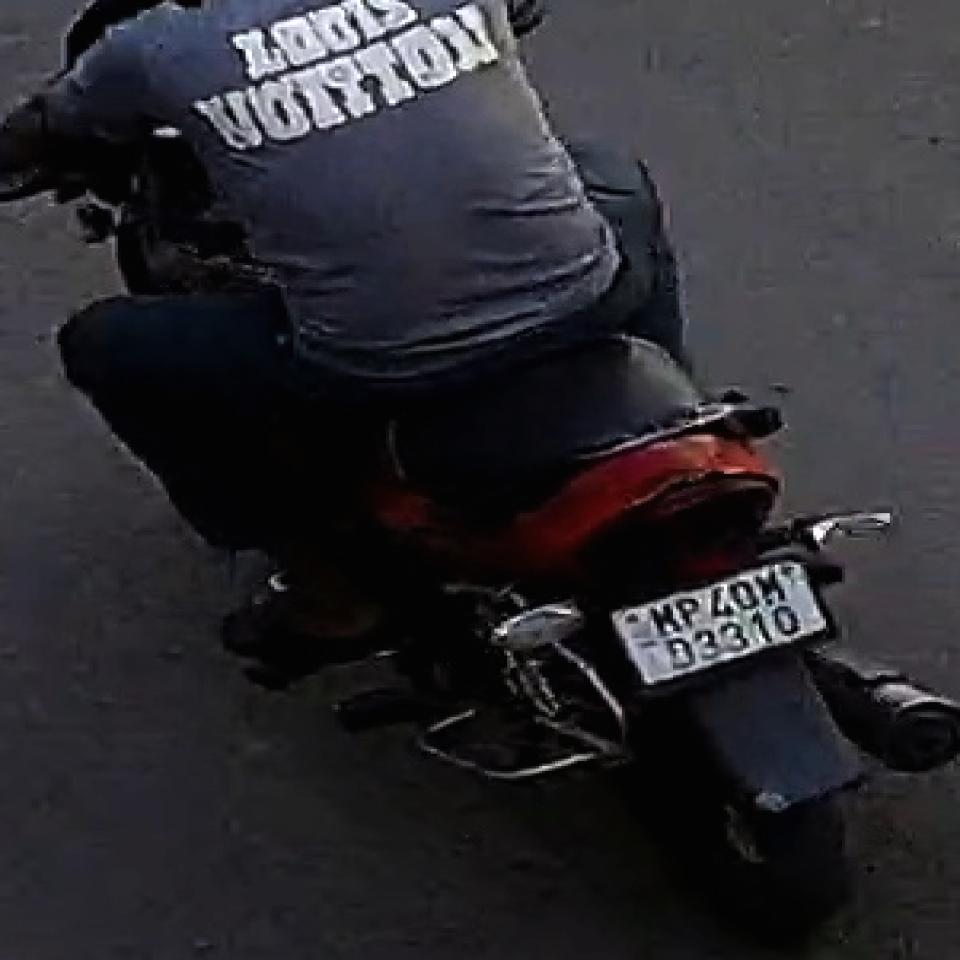tail_light: (594, 468, 778, 571)
